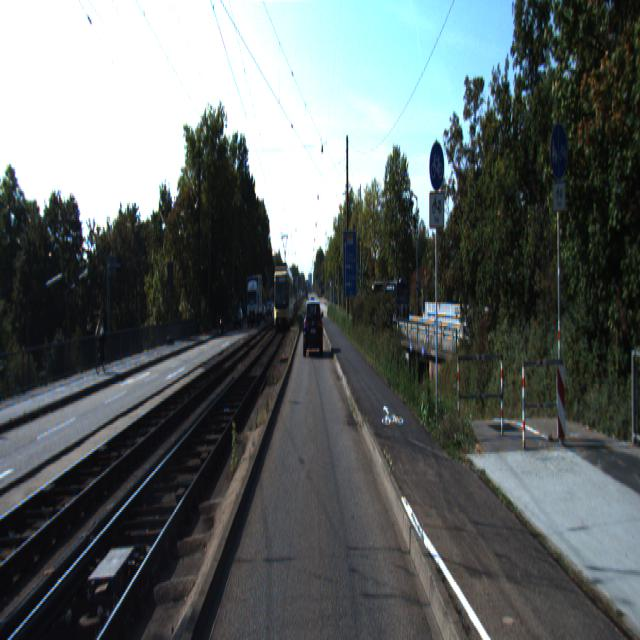Car: (371, 280, 410, 334), (272, 260, 292, 331), (304, 297, 322, 355)
